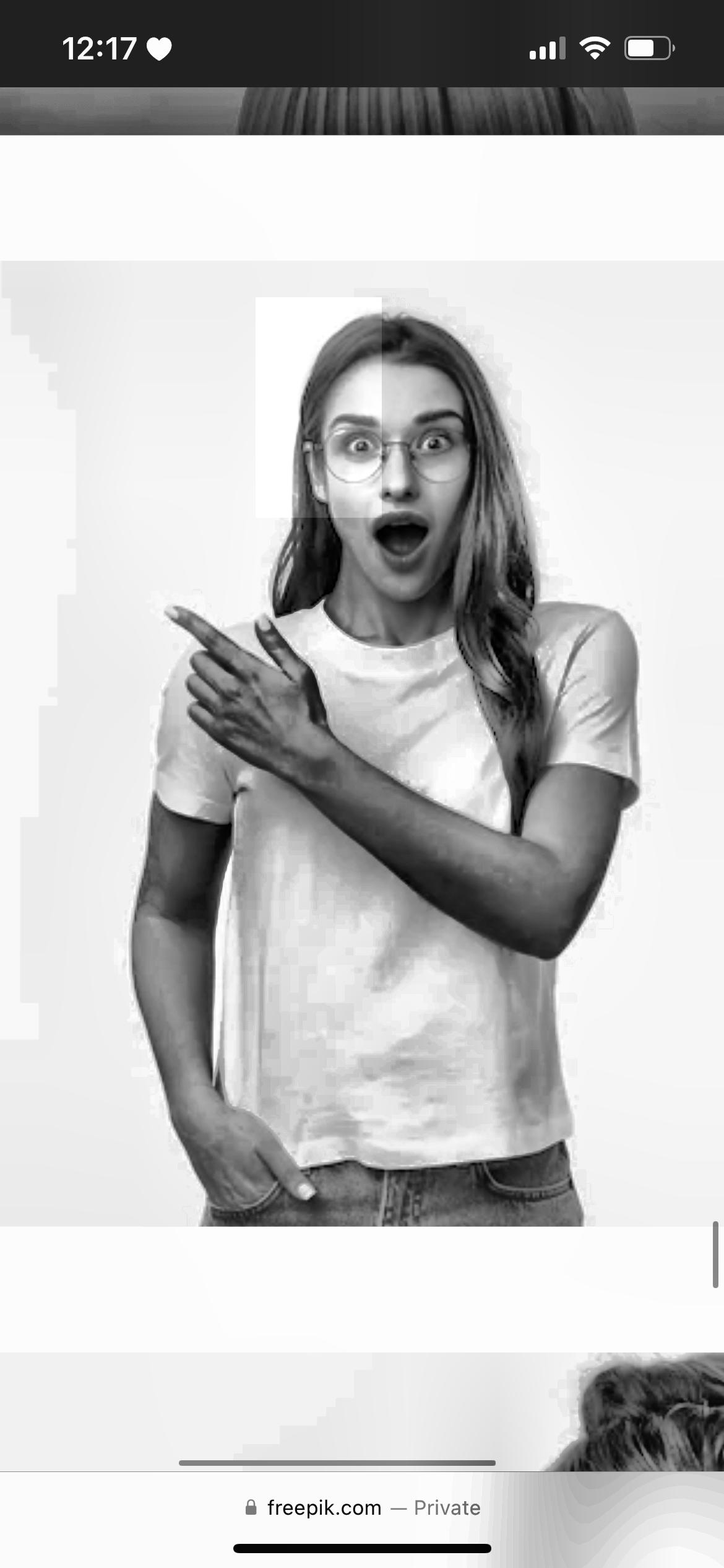surprised: (316, 368, 472, 640)
